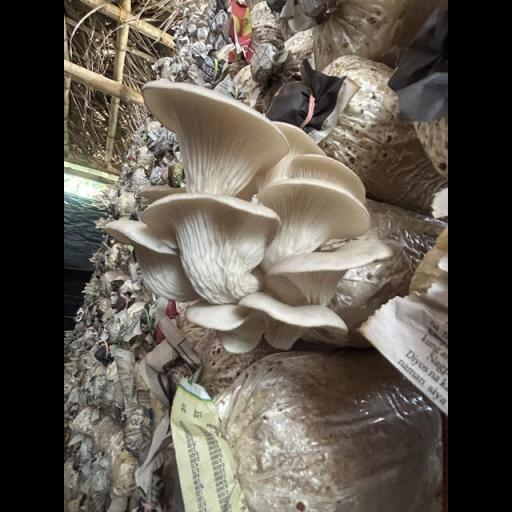White Oyster Mushroom: (102, 75, 384, 363)
